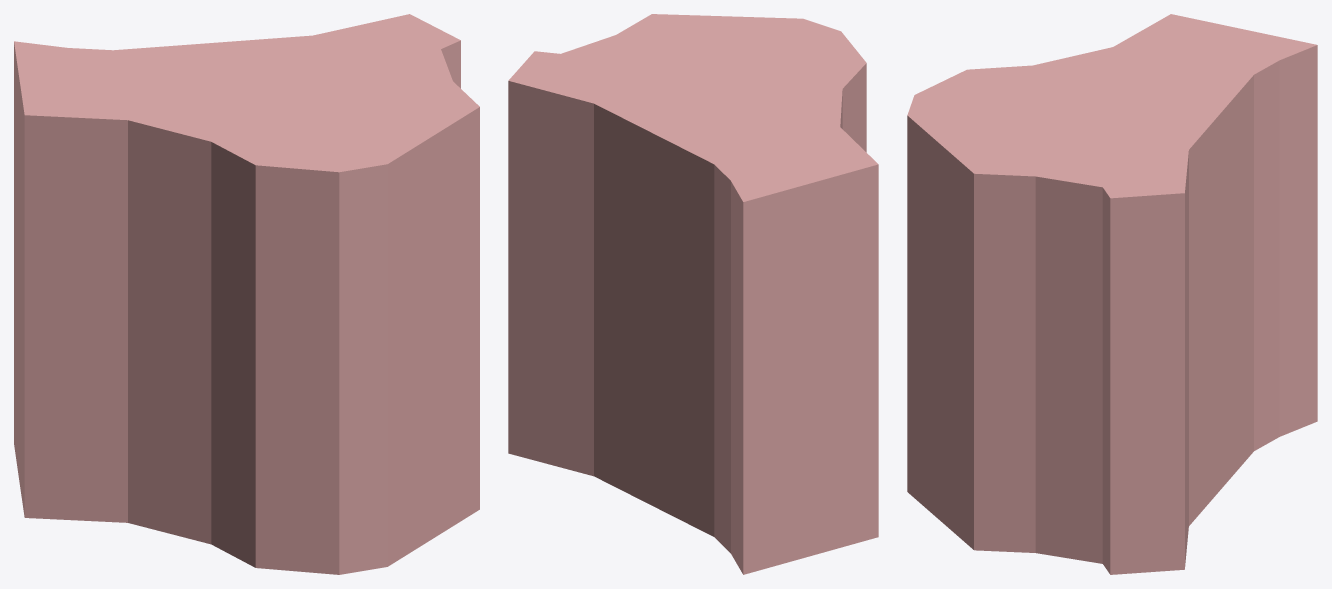
The model's file is highland_park.glb.
3 renders of one model, left to right at view 1: azimuth 30°, elevation 25°; view 2: azimuth 150°, elevation 25°; view 3: azimuth 270°, elevation 25°, orthographic. The views are drawn at different scales.
Parts seen in each view (by area): view 1: Plane.007; view 2: Plane.007; view 3: Plane.007.
Boxes of the visible parts, box(x1,y1,x2,y2) form: Plane.007: box(14, 14, 479, 574); Plane.007: box(508, 14, 878, 574); Plane.007: box(907, 14, 1317, 574).
Size of the model in its own units: 0.384 by 0.3658 by 0.3611.
